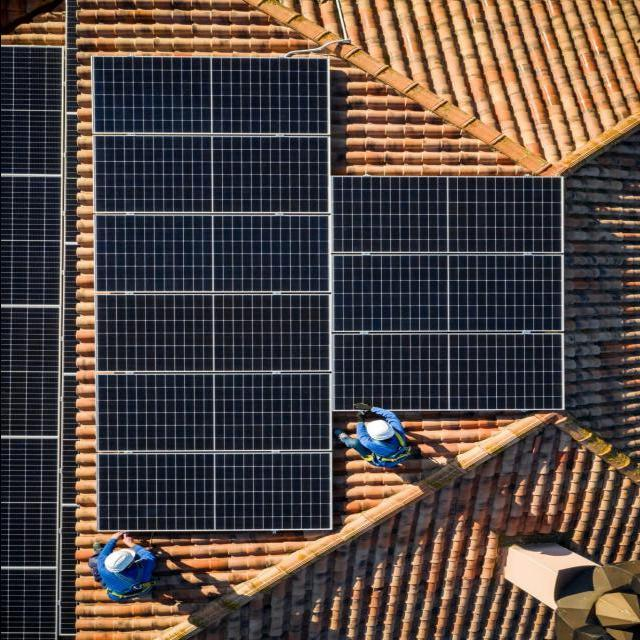no faulty: (96, 60, 326, 530), (338, 180, 568, 412), (0, 53, 65, 640)
